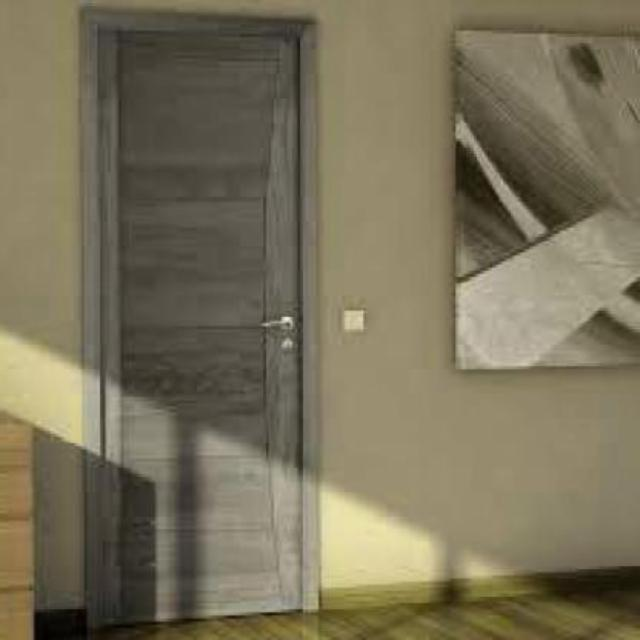Door: (90, 14, 317, 624)
